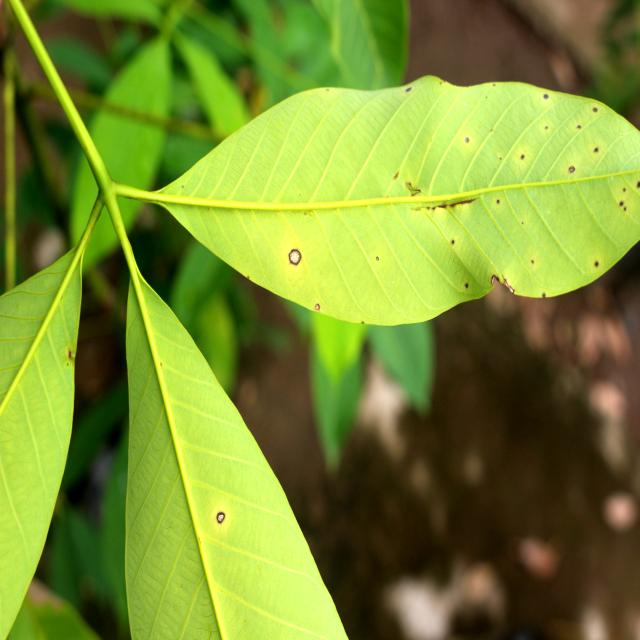Colletotrichum: (289, 249, 301, 265), (217, 512, 225, 524), (569, 166, 575, 173), (315, 303, 320, 310), (376, 256, 378, 260)
